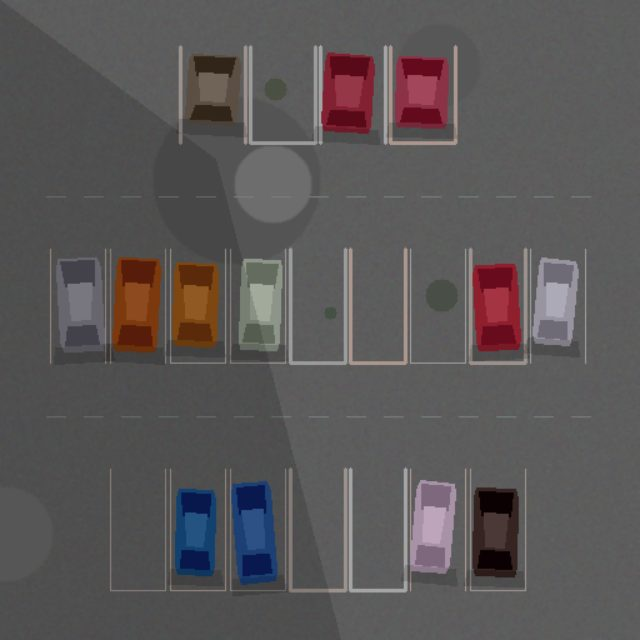space-empty: (110, 469, 165, 590), (290, 469, 345, 590), (350, 469, 405, 590), (250, 46, 315, 143), (290, 249, 345, 362), (350, 249, 405, 362), (410, 249, 465, 362)
space-occupied: (170, 469, 225, 590), (230, 469, 285, 590), (410, 469, 465, 590), (470, 469, 525, 590), (180, 46, 245, 143), (320, 46, 385, 143), (390, 46, 455, 143), (50, 249, 105, 362), (110, 249, 165, 362), (170, 249, 225, 362), (230, 249, 285, 362), (470, 249, 525, 362), (530, 249, 585, 362)
